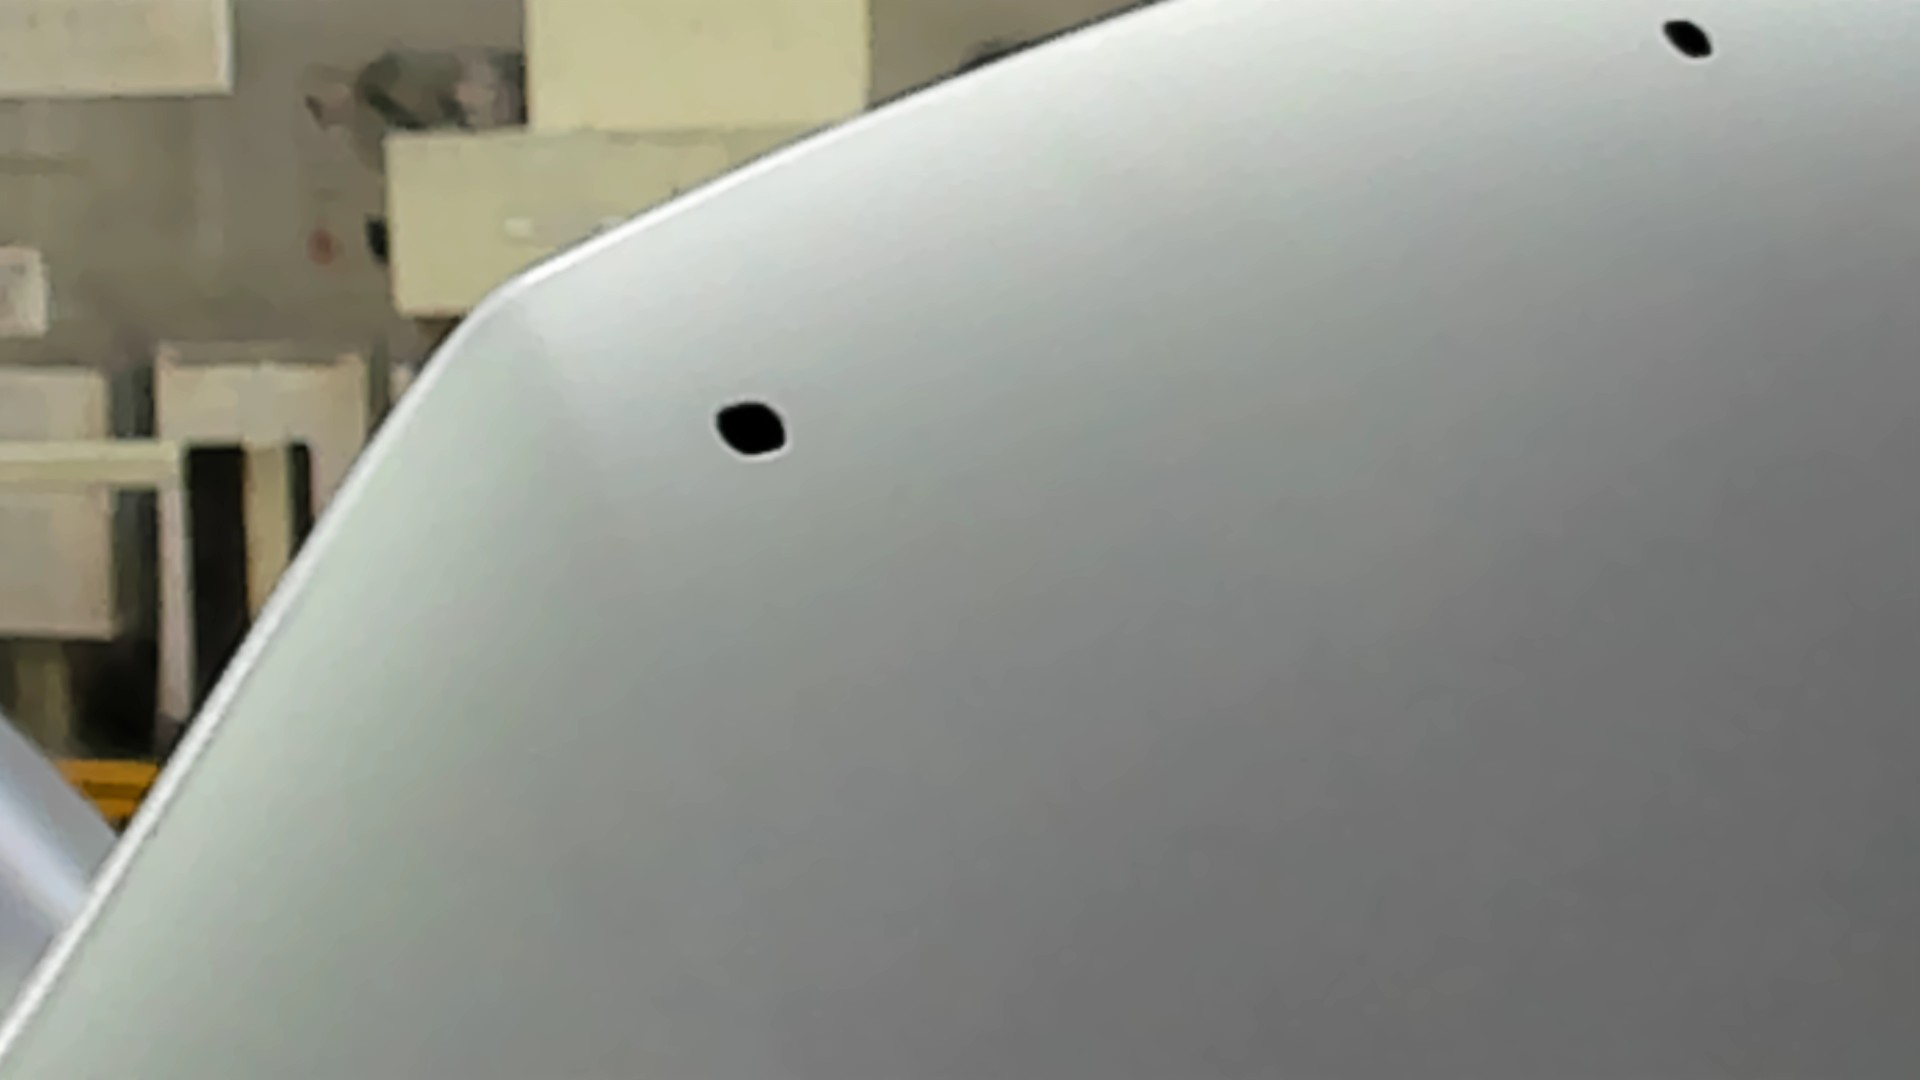amorfo: (711, 400, 790, 459), (1658, 18, 1720, 61)
